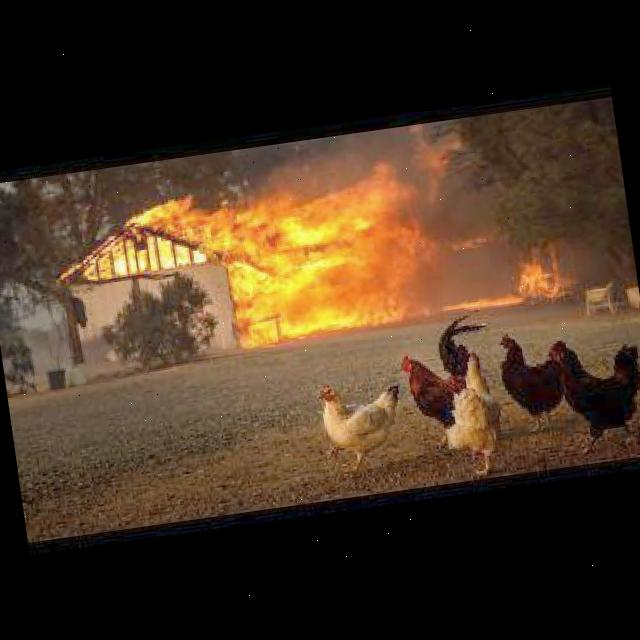fire: (33, 136, 437, 374), (430, 240, 576, 318)
